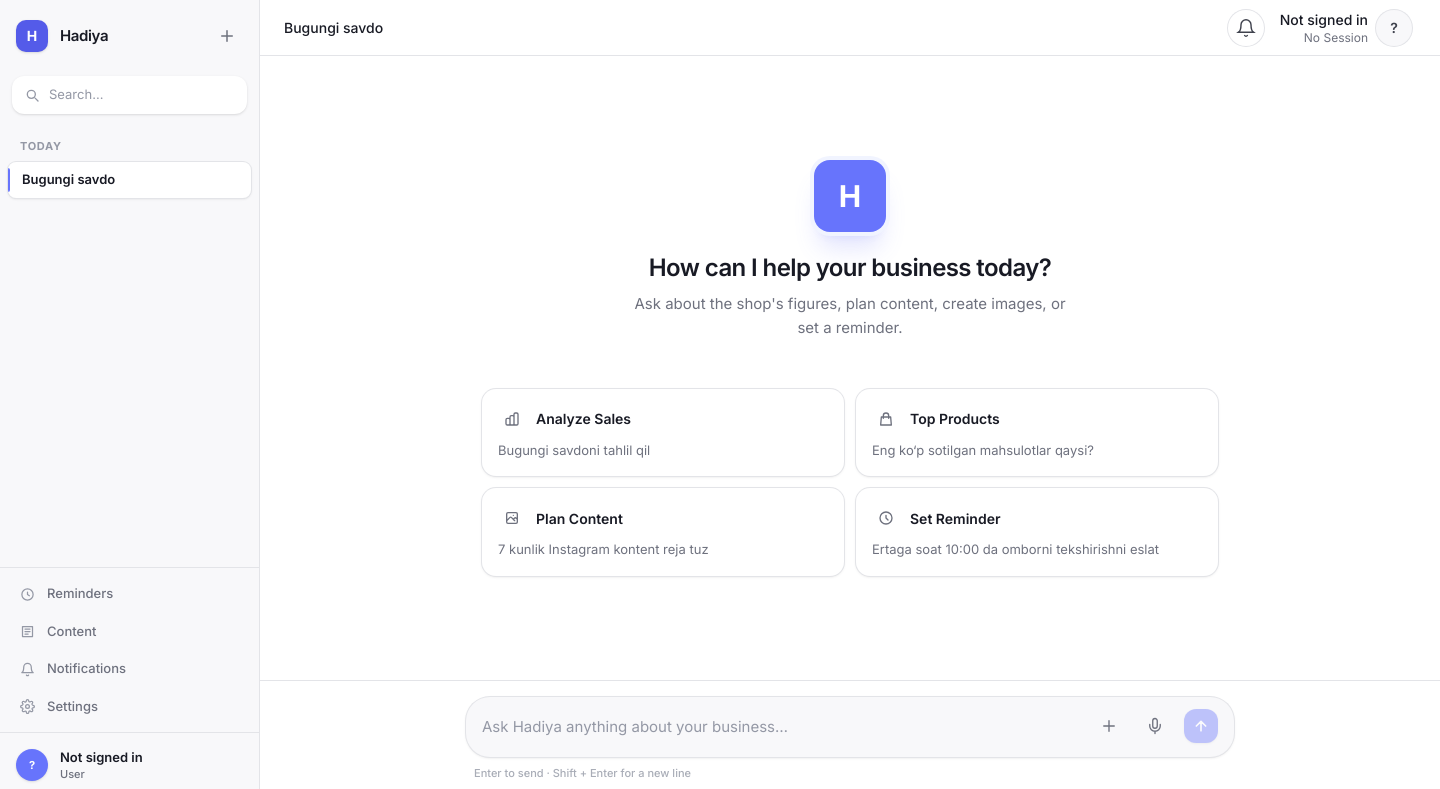
watching a turn happen › asks before a write, and the card cannot run it
The image size is (1440, 789).
Type "Invoice yarat" into the text box with placeholder "Ask Hadiya anything about your business…" at (781, 727), box [482, 705, 1080, 749]
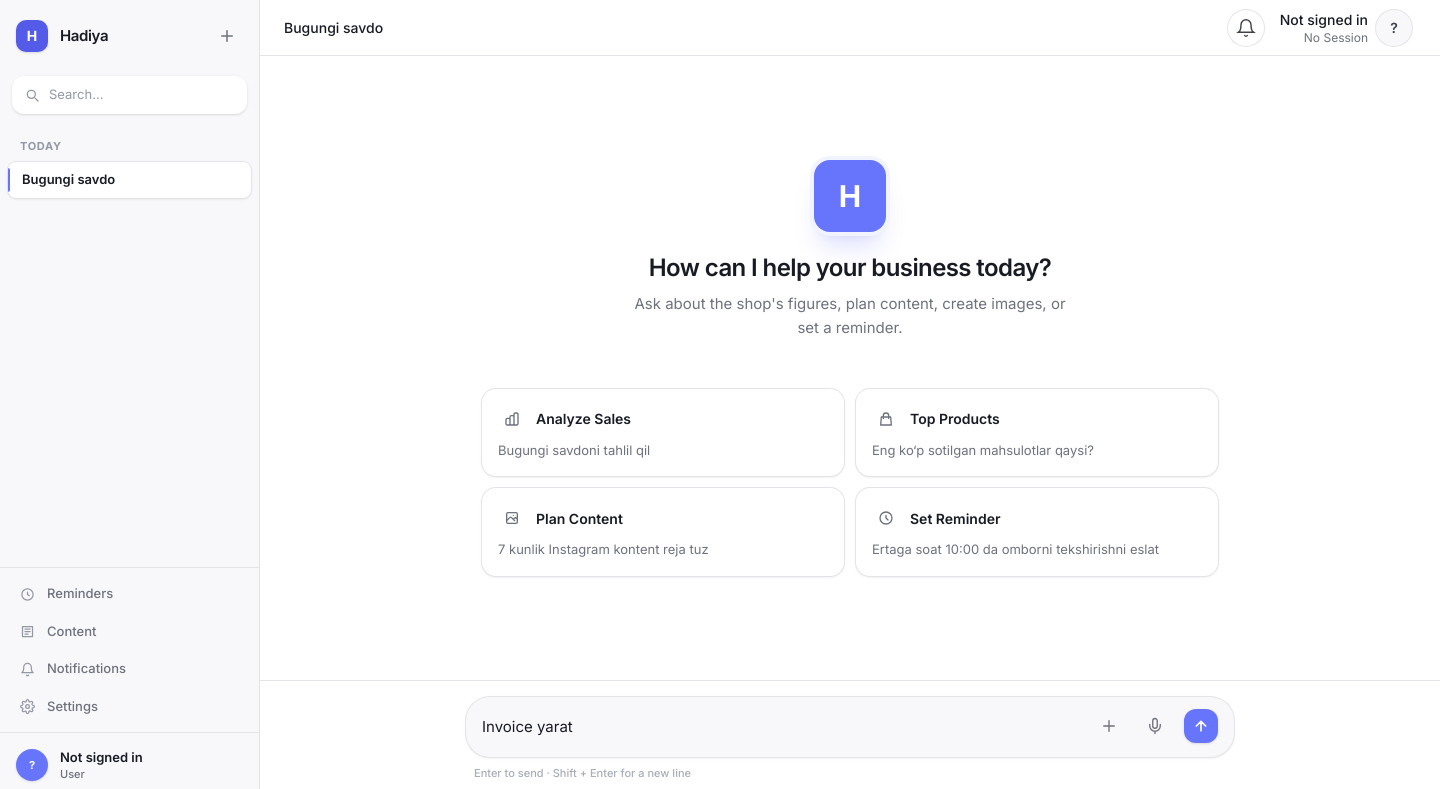
Click the button named "Send message" at (1201, 726), box [1184, 709, 1218, 743]
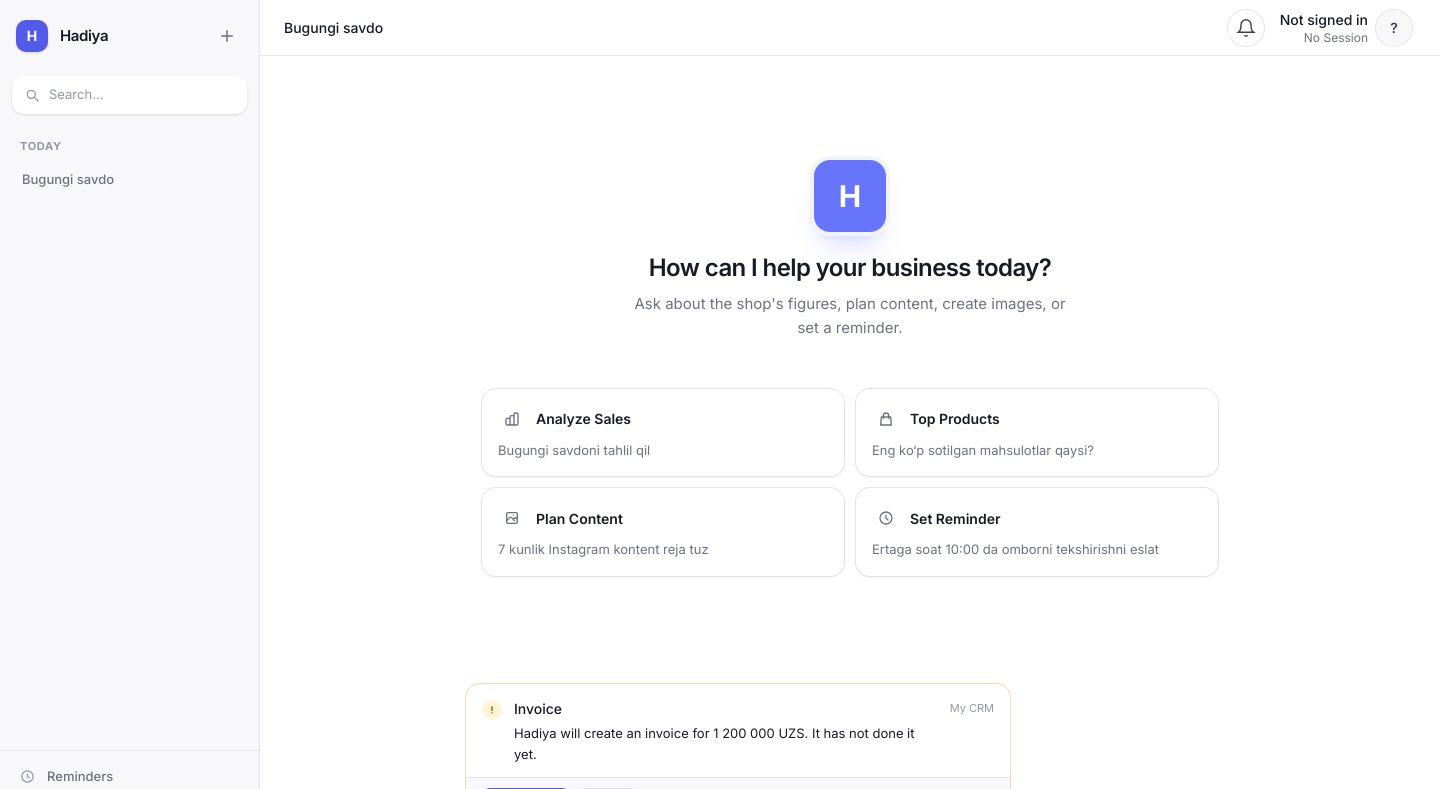
Now the text "create an invoice for 1 200 000 UZS" is shown, box [514, 725, 914, 762]
Now the text "It has not done it yet" is shown, box [514, 725, 914, 762]
